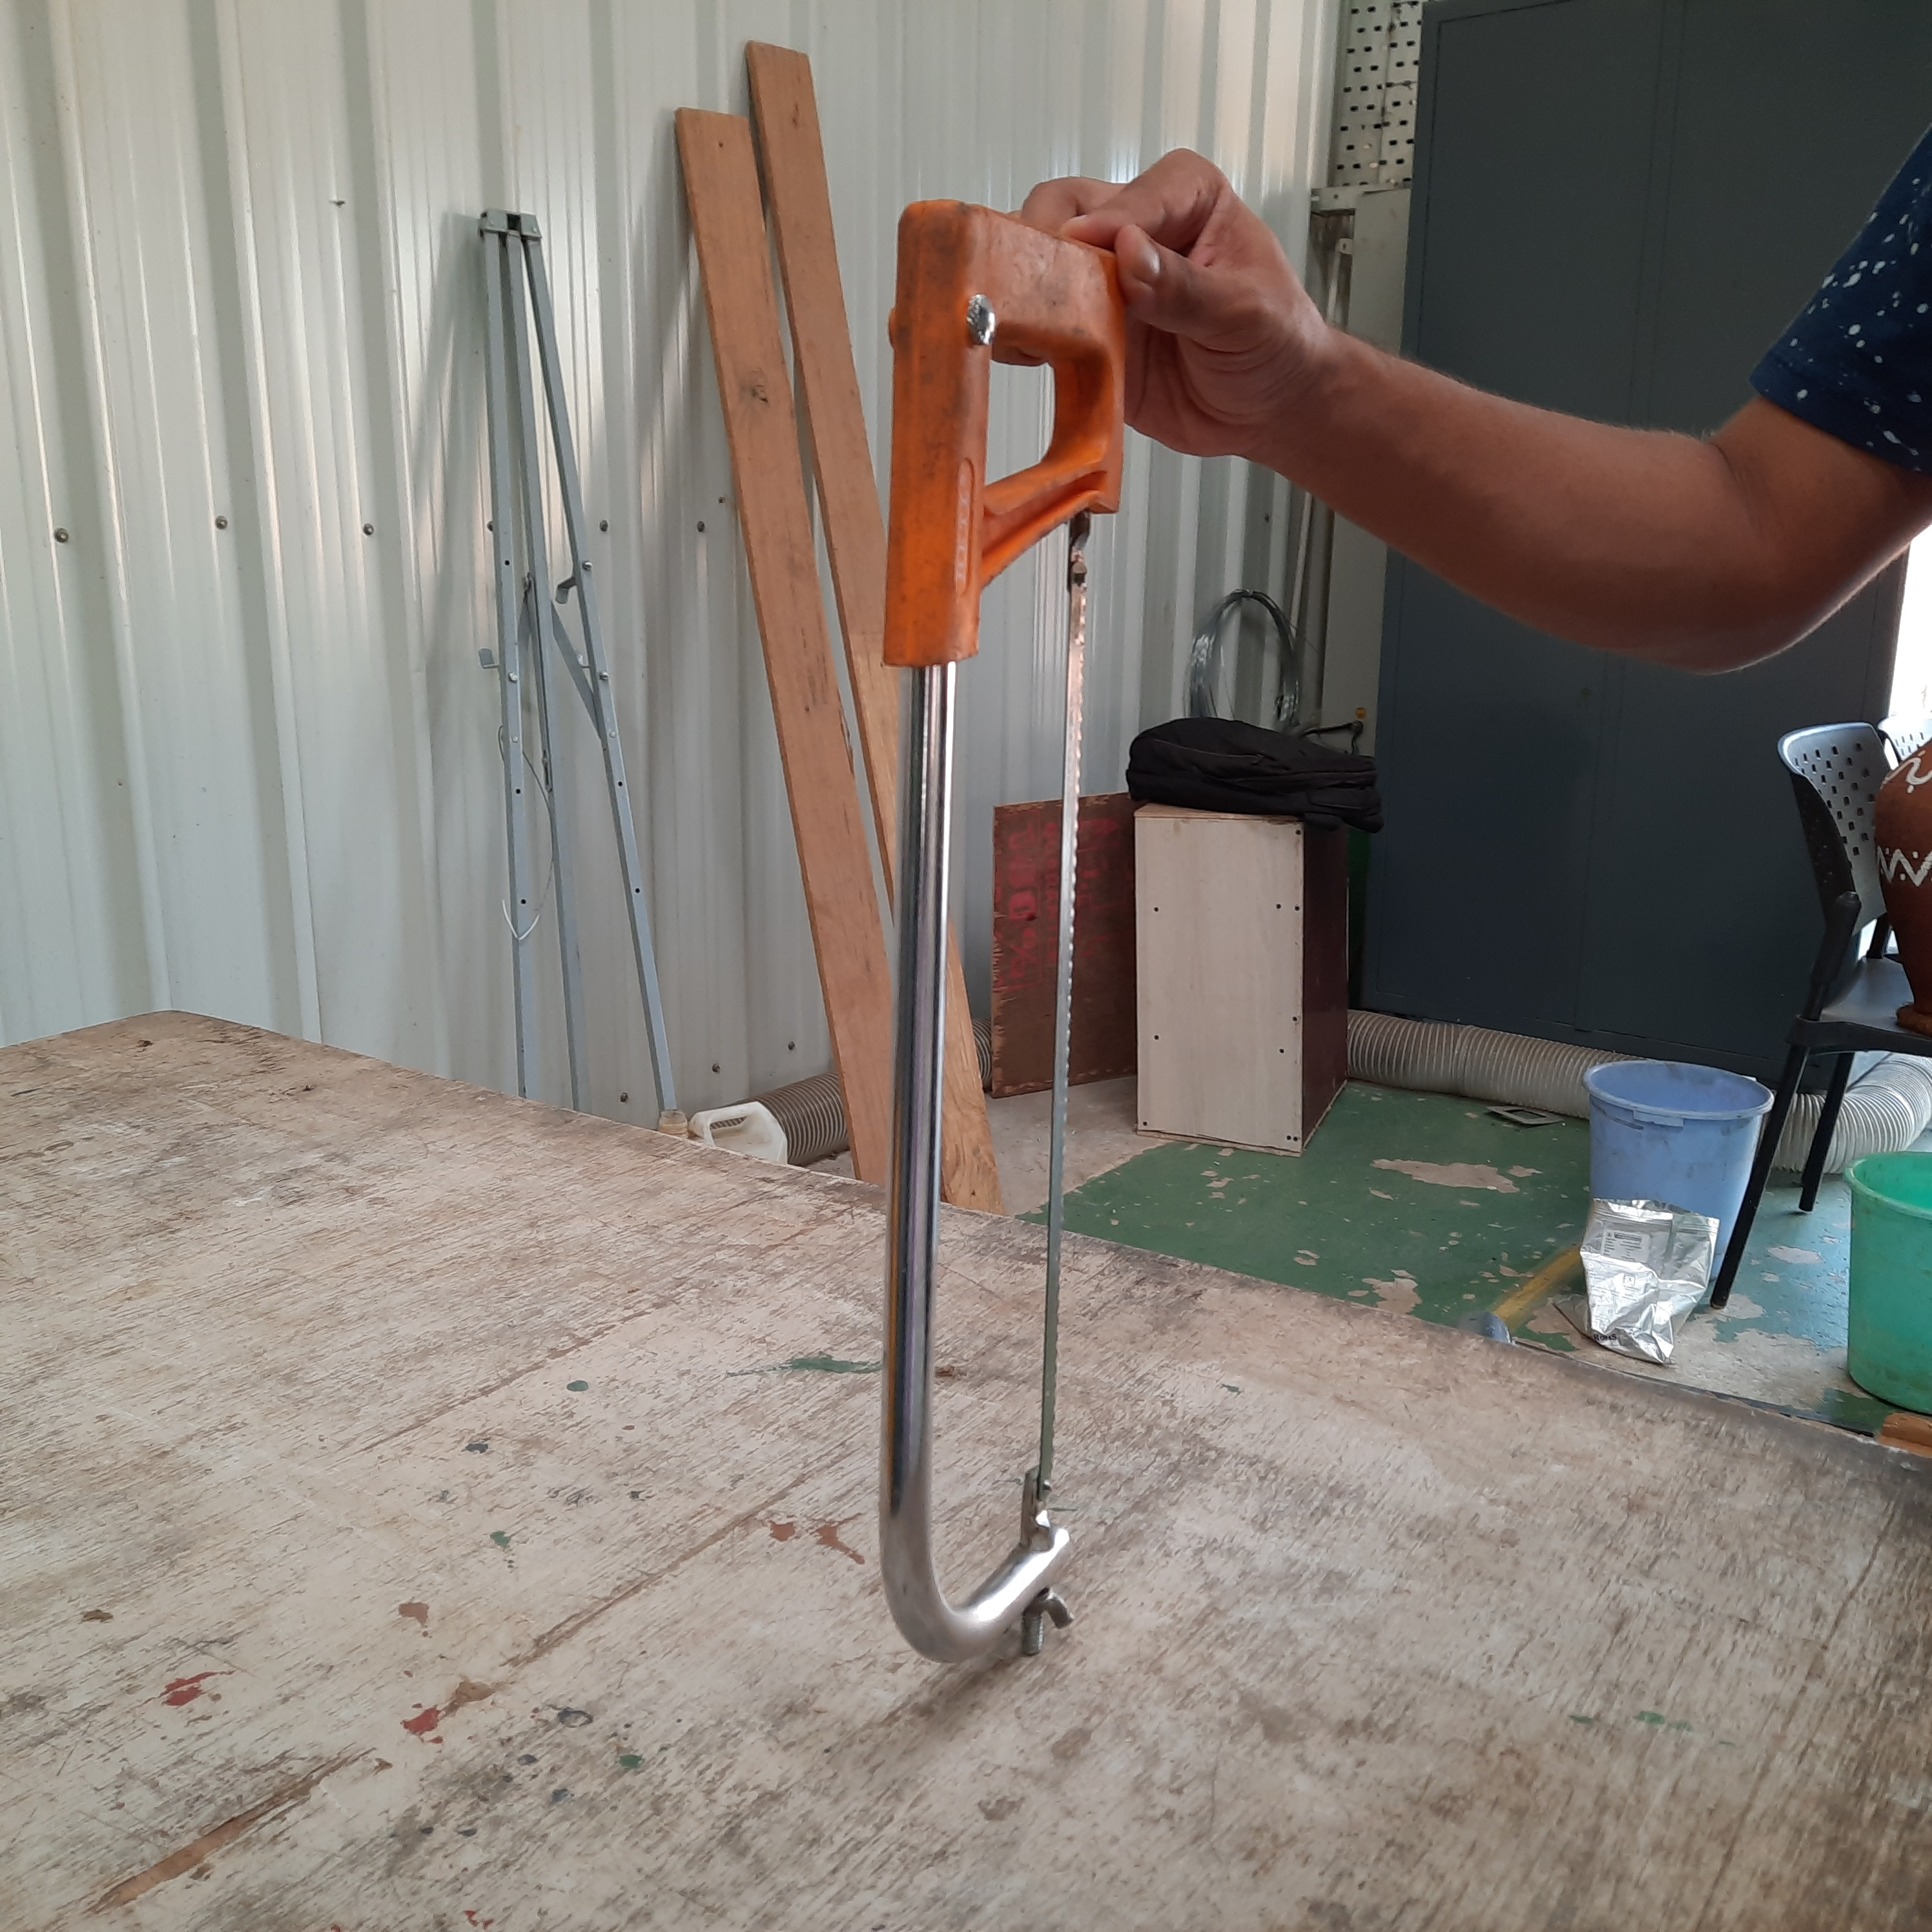Hexaframe: (865, 189, 1152, 1660)
